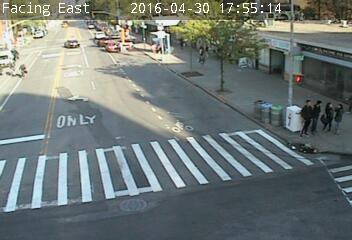neg: (131, 78, 155, 111), (77, 101, 98, 129), (332, 70, 349, 93), (92, 59, 106, 78), (269, 61, 283, 80), (238, 57, 251, 75), (104, 42, 115, 56)
pos: (328, 102, 351, 137), (307, 98, 331, 129), (317, 100, 339, 129), (297, 98, 318, 127)
